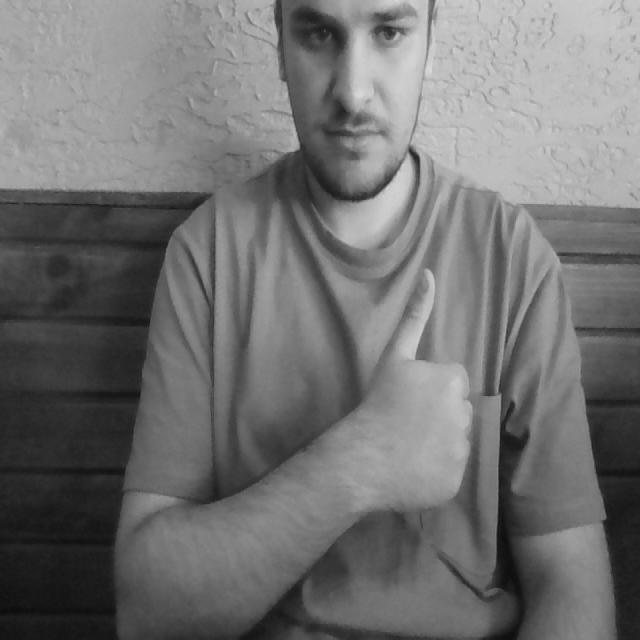Tamam: (352, 265, 482, 527)
